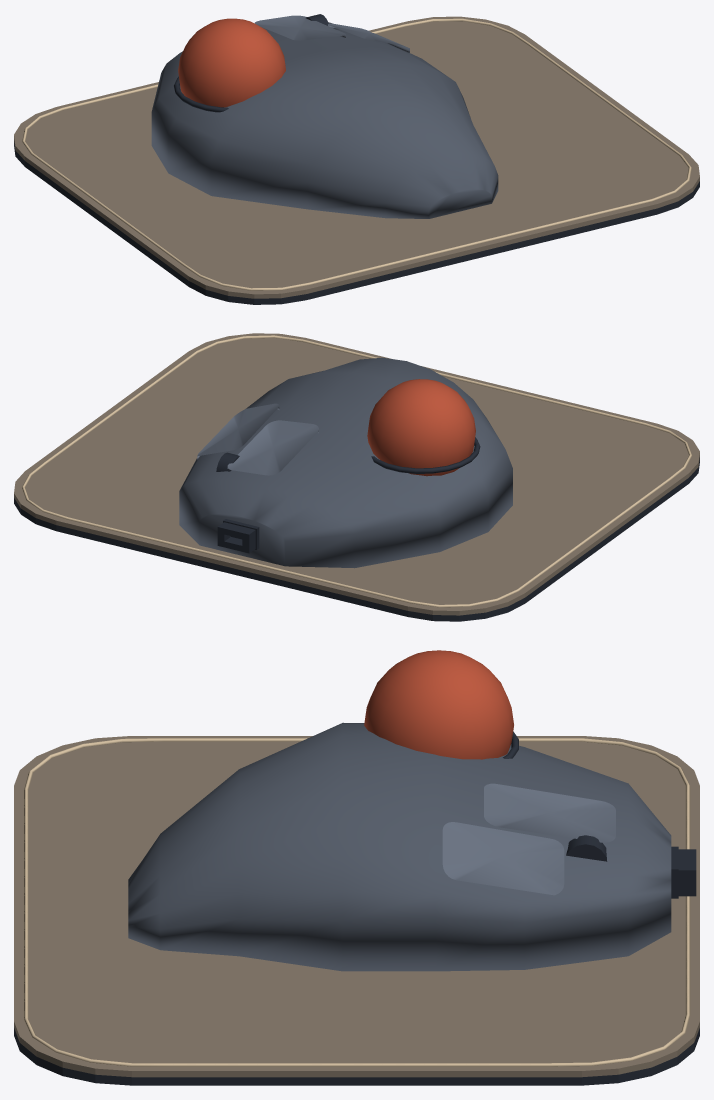
3 views of the same model, one above another, from view 1: azimuth 30°, elevation 25°; view 2: azimuth 150°, elevation 25°; view 3: azimuth 270°, elevation 25° (orthographic). The views are drawn at different scales.
Visible parts, largest first — view 1: pad-fabric-face, mouse-body-ergonomic, mouse-trackball, pad-rubber-base, pad-sewn-edge, mouse-button-left, mouse-button-right; view 2: pad-fabric-face, mouse-body-ergonomic, mouse-trackball, pad-rubber-base, pad-sewn-edge, mouse-button-left, mouse-button-right, mouse-trackball-socket; view 3: pad-fabric-face, mouse-body-ergonomic, mouse-trackball, pad-sewn-edge, mouse-button-right, pad-rubber-base, mouse-button-left, mouse-wheel.
Boxes of the visible parts, x1,y1,x2,y2 form: pad-fabric-face: (14, 16, 699, 298); mouse-body-ergonomic: (151, 22, 498, 218); mouse-trackball: (178, 18, 285, 107); pad-rubber-base: (14, 140, 699, 304); pad-sewn-edge: (22, 18, 691, 290); mouse-button-left: (254, 15, 345, 40); mouse-button-right: (328, 23, 409, 53); pad-fabric-face: (14, 333, 699, 615); mouse-body-ergonomic: (179, 357, 512, 568); mouse-trackball: (367, 379, 475, 476); pad-rubber-base: (14, 457, 699, 621); pad-sewn-edge: (21, 335, 692, 607); mouse-button-left: (227, 420, 318, 475); mouse-button-right: (197, 403, 279, 460); mouse-trackball-socket: (371, 437, 480, 473); pad-fabric-face: (14, 736, 699, 1077); mouse-body-ergonomic: (128, 722, 671, 971); mouse-trackball: (364, 650, 513, 759); pad-sewn-edge: (23, 738, 690, 1066); mouse-button-right: (442, 822, 564, 895); pad-rubber-base: (14, 1028, 699, 1085); mouse-button-left: (484, 783, 615, 842); mouse-wheel: (566, 835, 607, 861).
Size of the model in its own units: 0.222 by 0.061 by 0.192.
